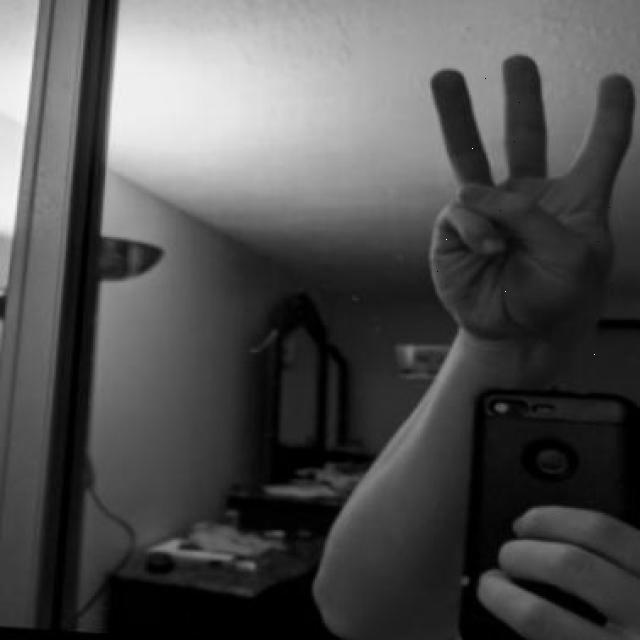W: (410, 42, 638, 358)
